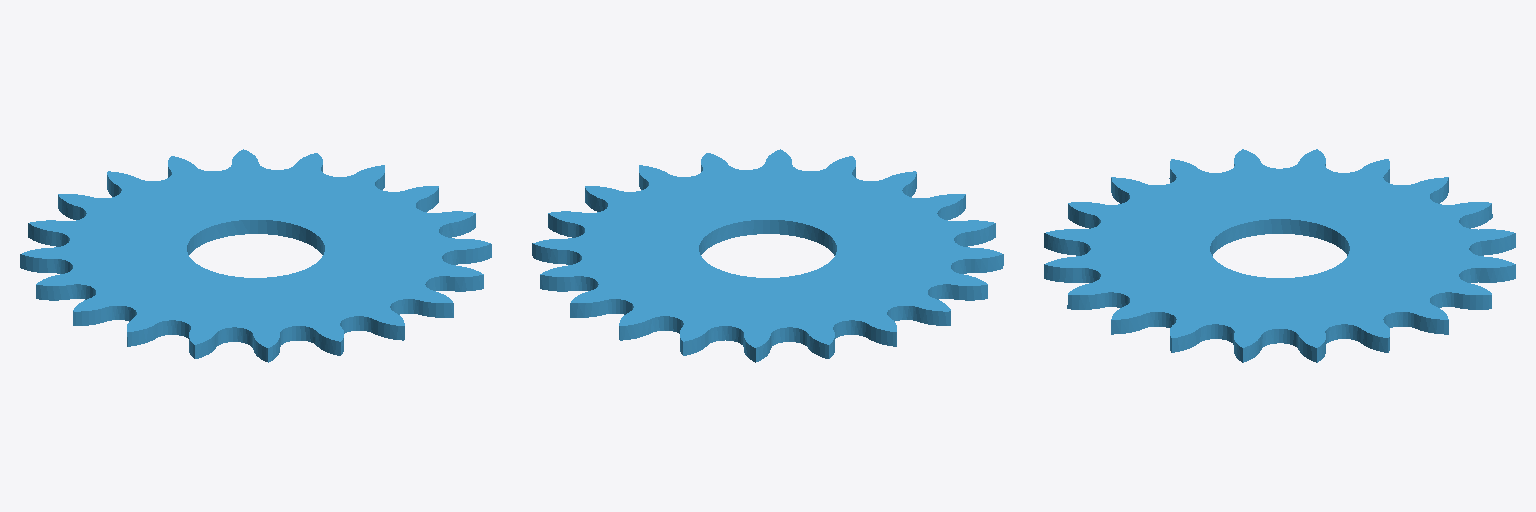
URDF robot description (test_glb):
<?xml version="1.0" ?>
<robot name="test_glb">
  <link name="base">
    <visual>
      <geometry><mesh filename="bike_base.glb"/></geometry>
    </visual>
    <collision>
      <geometry><mesh filename="bike_base.obj"/></geometry>
    </collision>
  </link>
  <link name="sprocket">
    <visual>
      <geometry><mesh filename="front_sprocket.obj"/></geometry>
    </visual>
    <collision>
      <geometry><mesh filename="front_sprocket.obj"/></geometry>
    </collision>
  </link>
  <joint name="j1" type="revolute">
    <parent link="base"/>
    <child link="sprocket"/>
    <origin xyz="0 0 0"/>
    <axis xyz="0 0 1"/>
    <limit lower="-10" upper="10" effort="100" velocity="100"/>
  </joint>
</robot>

--- What the picture shows (computed from the rendered views, not written in the file) ---
The picture shows the robot from 3 angles, left to right: view 1: azimuth 30°, elevation 25°; view 2: azimuth 150°, elevation 25°; view 3: azimuth 270°, elevation 25°; orthographic projection.
Model test_glb with 2 links and 1 joints (1 revolute), rooted at base, posed all joints at 0.
Links seen in each view (by area): view 1: sprocket; view 2: sprocket; view 3: sprocket.
Link boxes in pixels (x1,y1,x2,y2): sprocket: [20, 149, 491, 362]; sprocket: [532, 149, 1003, 362]; sprocket: [1044, 149, 1515, 362].
Size in the robot's own frame: 0.1953 by 0.1953 by 0.0067 metres.
Meshes: 2 distinct files referenced, 1 mesh visuals loaded (1 OBJ); not drawn: 1 (reference not matched to a file when rendering).
